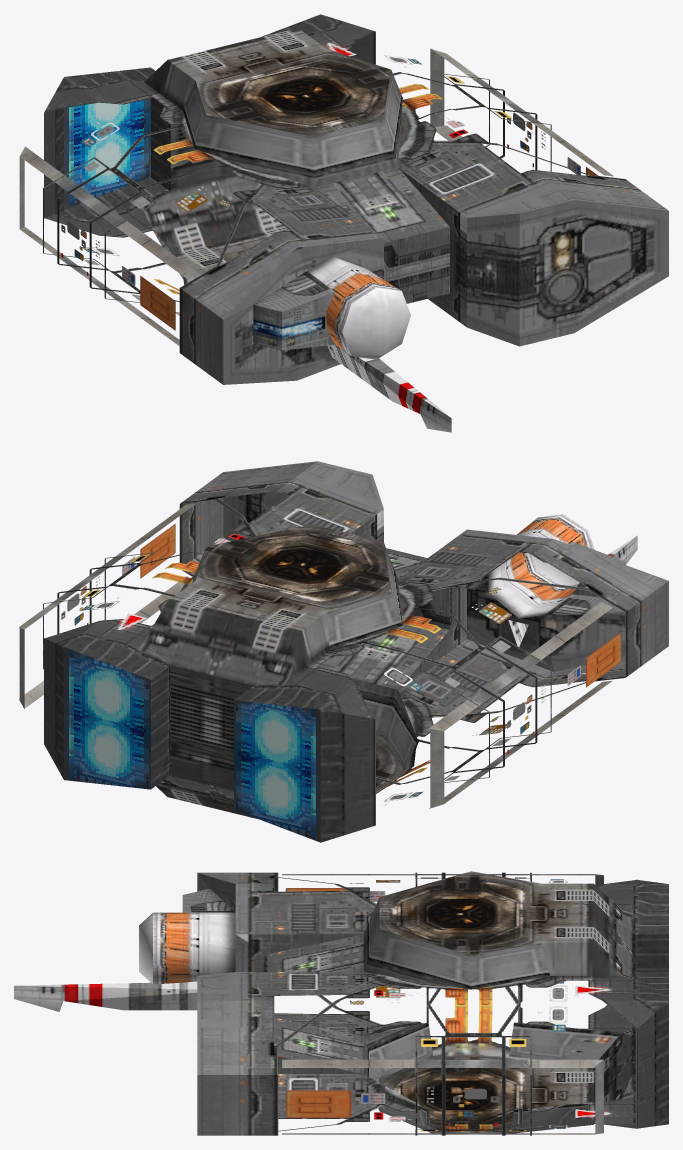
3 views of the same model, one above another, from view 1: azimuth 30°, elevation 25°; view 2: azimuth 150°, elevation 25°; view 3: azimuth 270°, elevation 25° (orthographic). The views are drawn at different scales.
Parts seen in each view (by area): view 1: Hgn_GunTurret_front, Hgn_GunTurret_burner; view 2: Hgn_GunTurret_front, Hgn_GunTurret_burner; view 3: Hgn_GunTurret_front.
Part boxes in pixels (x1,y1,x2,y2): Hgn_GunTurret_front: (19, 14, 668, 432); Hgn_GunTurret_burner: (64, 98, 150, 209); Hgn_GunTurret_front: (19, 461, 668, 842); Hgn_GunTurret_burner: (64, 647, 320, 842); Hgn_GunTurret_front: (14, 871, 668, 1135).
Size of the model in its own units: 20.47 by 8.59 by 28.03.
